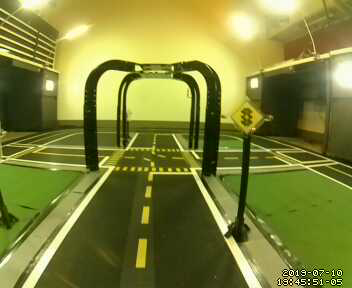Traffic light sign: (231, 98, 268, 136)
